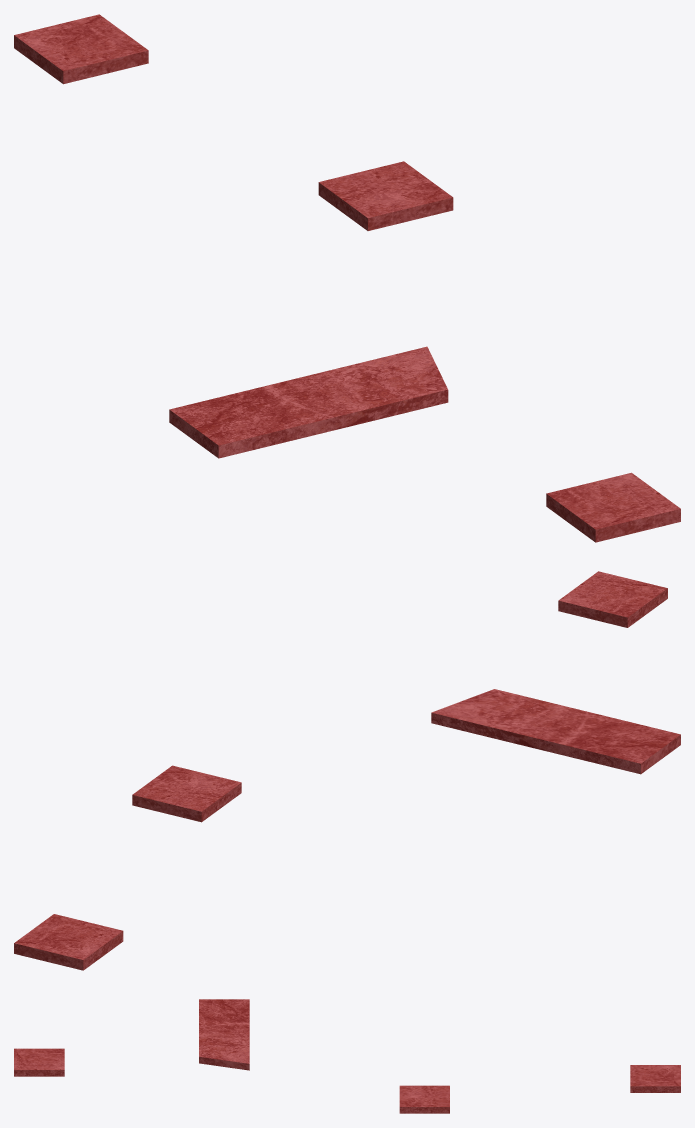
3 renders of one model, top to bottom at view 1: azimuth 30°, elevation 25°; view 2: azimuth 150°, elevation 25°; view 3: azimuth 270°, elevation 25°, orthographic. The views are drawn at different scales.
Visible parts, largest first — view 1: Plane.001_Plane.004_Plane.001_Plane.005; view 2: Plane.001_Plane.004_Plane.001_Plane.005; view 3: Plane.001_Plane.004_Plane.001_Plane.005.
Part boxes in pixels (x1=…): Plane.001_Plane.004_Plane.001_Plane.005: x1=14, y1=14, x2=680, y2=542; Plane.001_Plane.004_Plane.001_Plane.005: x1=14, y1=571, x2=680, y2=970; Plane.001_Plane.004_Plane.001_Plane.005: x1=14, y1=999, x2=680, y2=1113.
Size of the model in its own units: 17.3 by 0.5619 by 45.28.
